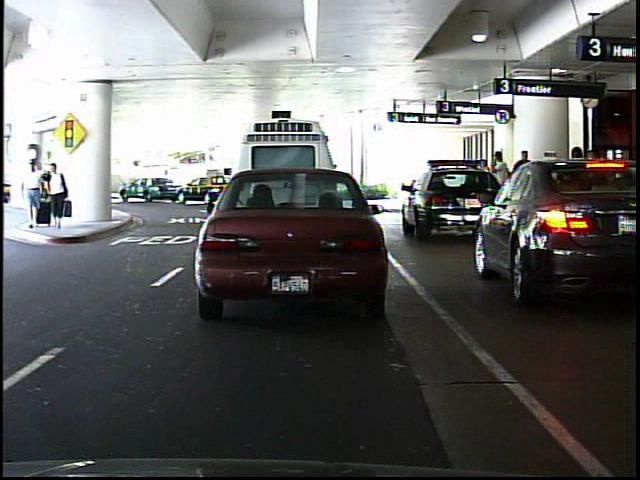person: (485, 146, 516, 223), (43, 159, 70, 231), (21, 155, 44, 229), (324, 158, 346, 200), (158, 164, 176, 197)
